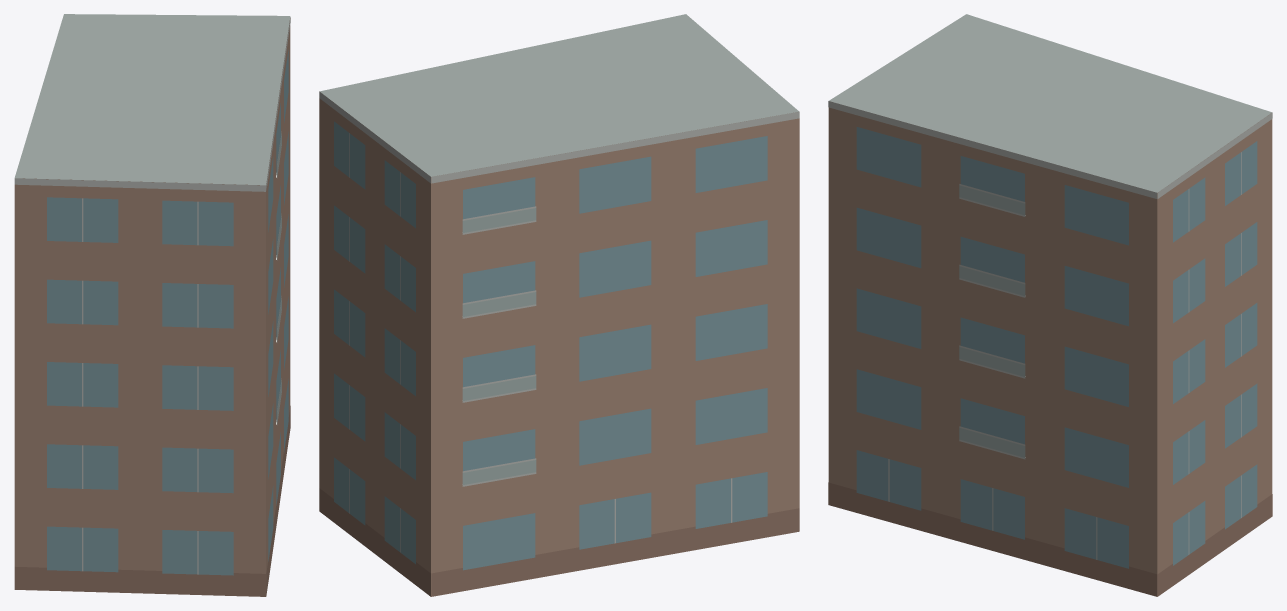
Rendered from survey-upis-32639250.glb.
3 renders of one model, left to right at view 1: azimuth 30°, elevation 25°; view 2: azimuth 150°, elevation 25°; view 3: azimuth 270°, elevation 25°, orthographic. The views are drawn at different scales.
Parts seen in each view (by area): view 1: survey-upis-32639250.tmp; view 2: survey-upis-32639250.tmp; view 3: survey-upis-32639250.tmp.
Boxes of the visible parts, x1=… form: survey-upis-32639250.tmp: x1=14, y1=14, x2=290, y2=596; survey-upis-32639250.tmp: x1=319, y1=14, x2=799, y2=596; survey-upis-32639250.tmp: x1=828, y1=14, x2=1272, y2=596.
Size of the model in its own units: 14.48 by 15.25 by 15.19.
